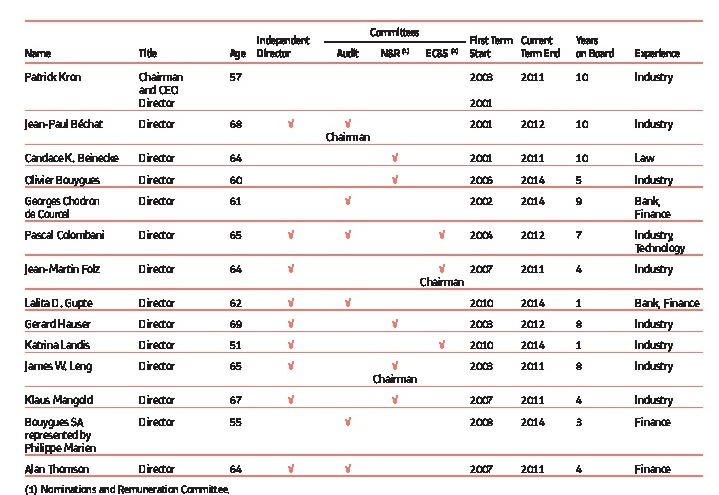table: (0, 0, 719, 495)
